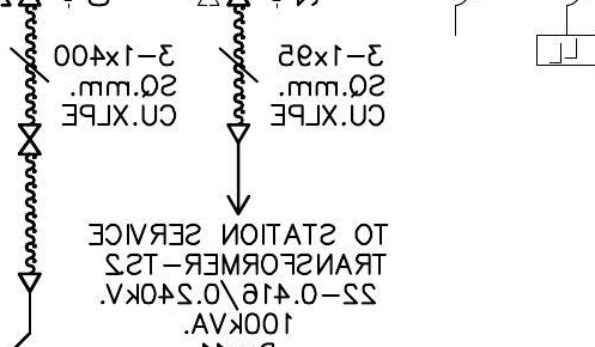terminator_single: (16, 271, 43, 294), (224, 122, 251, 145)
terminator_splicing_kits: (17, 123, 43, 156)
